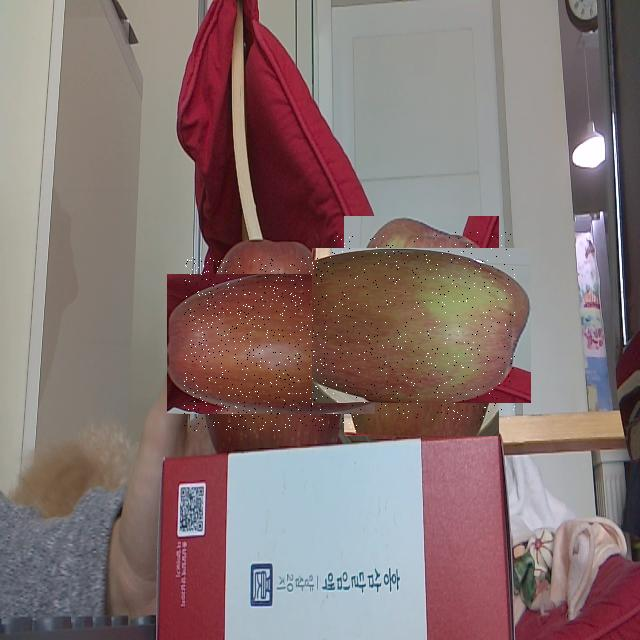apple: (328, 232, 515, 420), (184, 257, 359, 431)
